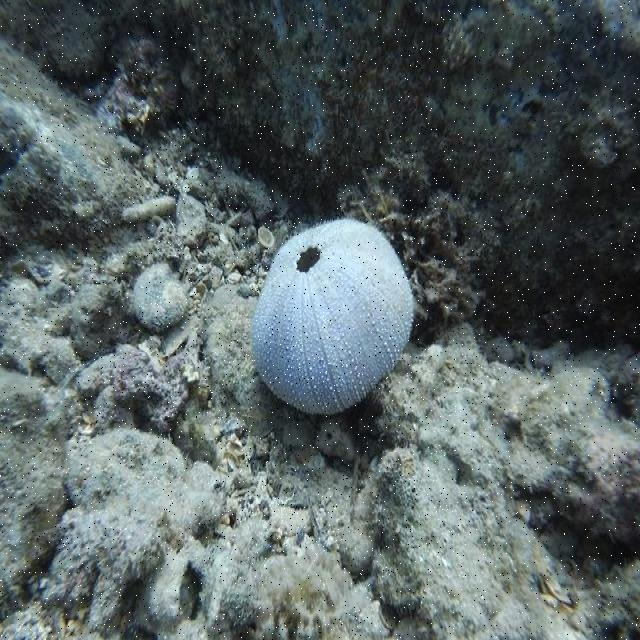aquatic plants: (252, 218, 414, 414)
